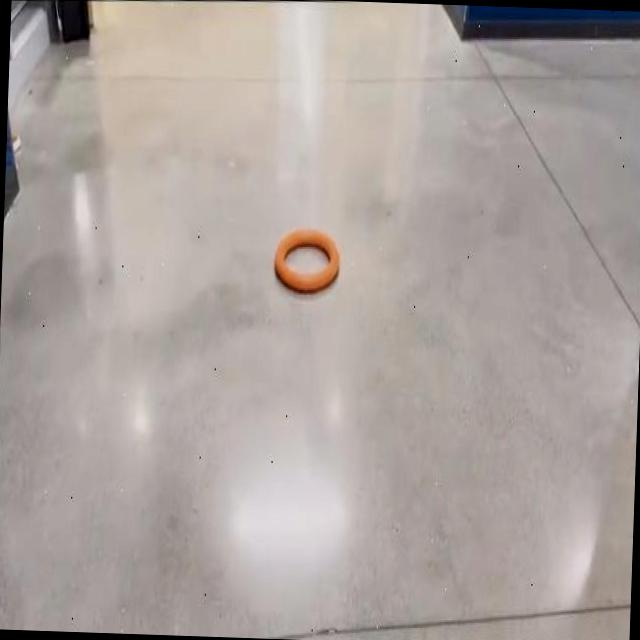note: (274, 227, 339, 291)
